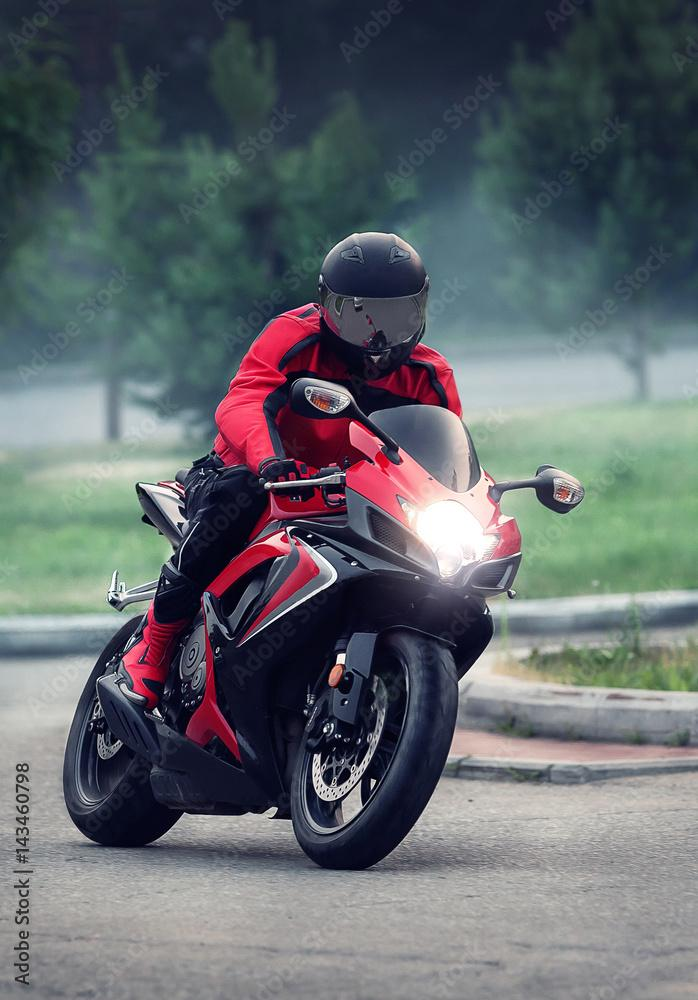helmet: (316, 230, 430, 382)
